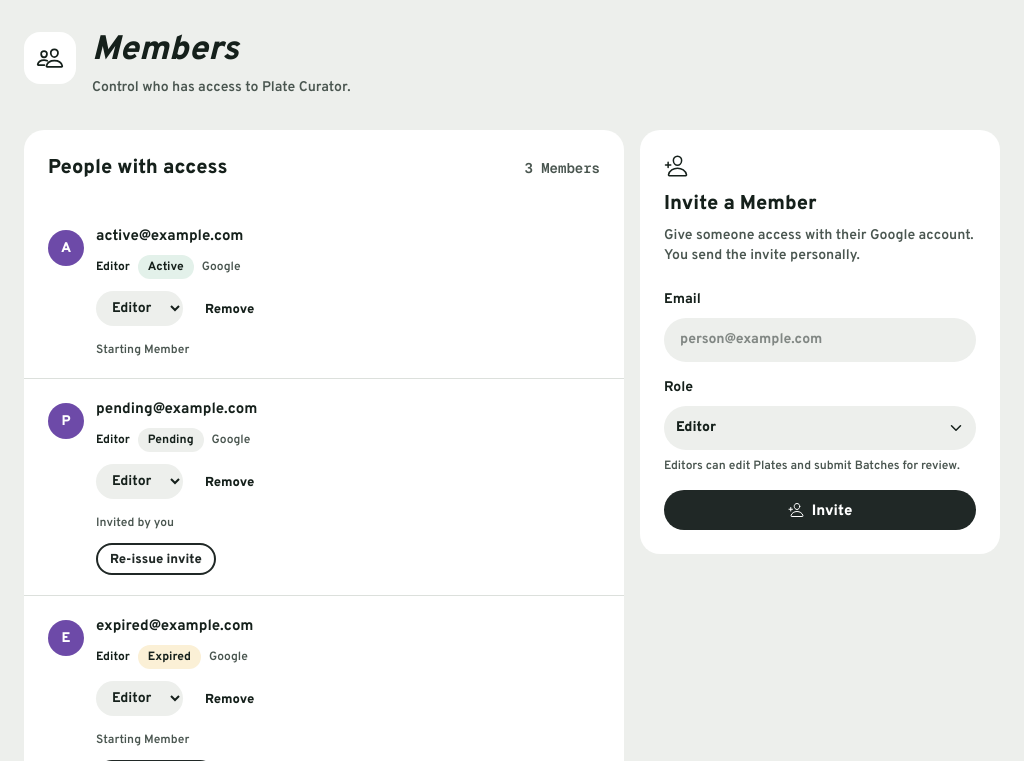
Test: last-Owner refusal for remove is readable and returns focus
Click the button with aria-label "Remove active@example.com".
click(230, 308)  # box [191, 292, 268, 324]
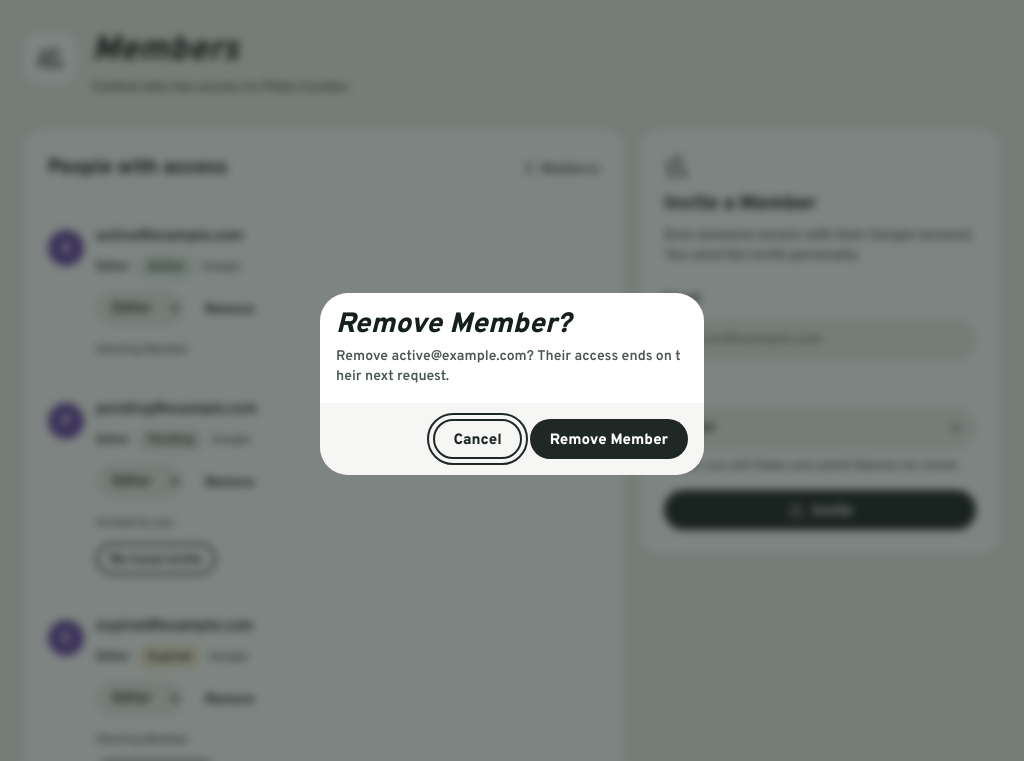
Click the button "Remove Member".
click(609, 439)  # box [530, 419, 688, 459]
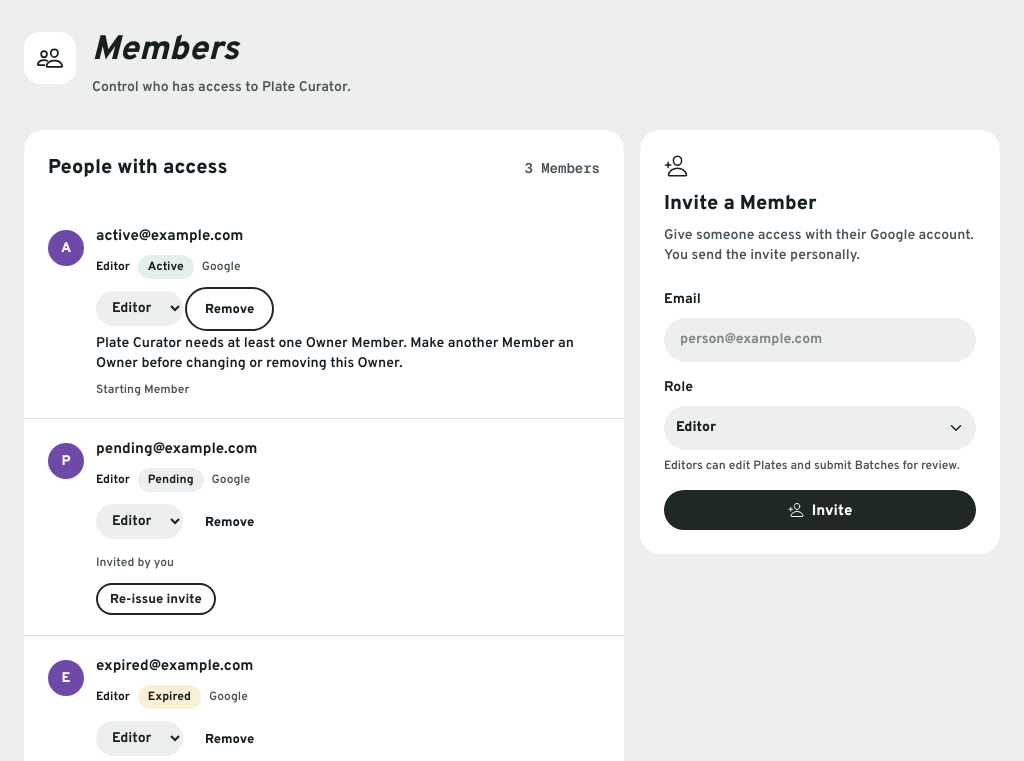
Now the message shows "at least one Owner Member", box [96, 335, 574, 372]
